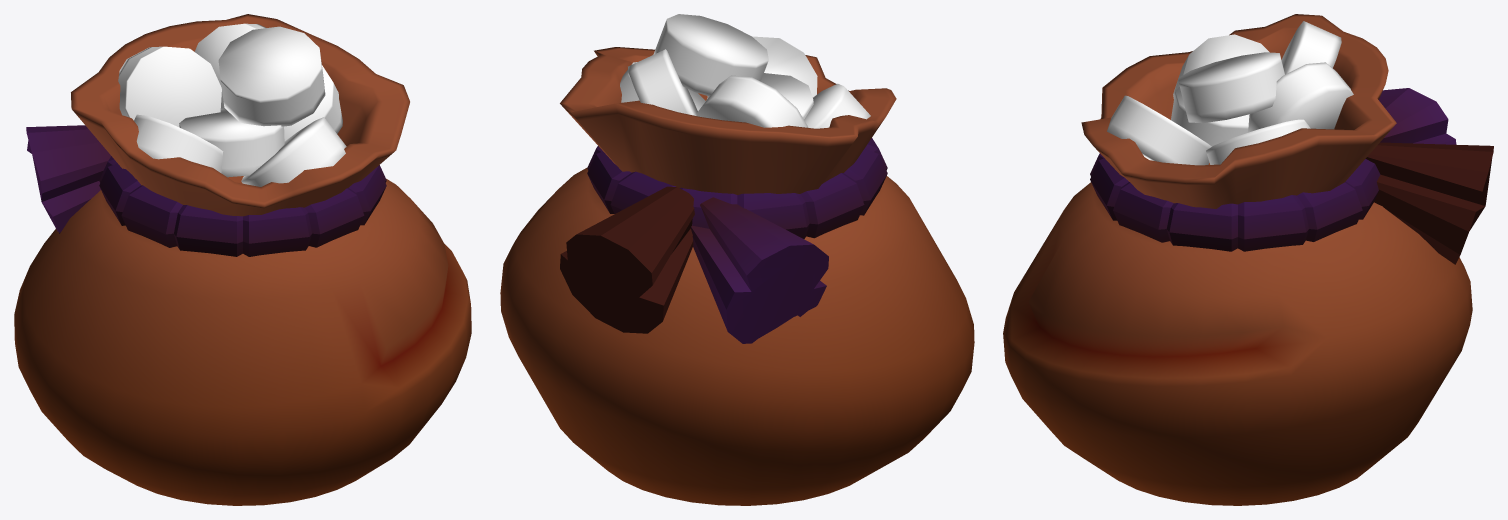
The model's file is МЕШОЧЕК ЗОЛОТА.fbx.
3 renders of one model, left to right at view 1: azimuth 30°, elevation 25°; view 2: azimuth 150°, elevation 25°; view 3: azimuth 270°, elevation 25°, orthographic. The views are drawn at different scales.
Visible parts, largest first — view 1: Cylinder, Cylinder.005; view 2: Cylinder, Cylinder.005; view 3: Cylinder, Cylinder.005.
Boxes of the visible parts, box(x1,y1,x2,y2) form: Cylinder: box(14, 14, 471, 505); Cylinder.005: box(118, 23, 346, 186); Cylinder: box(500, 47, 974, 505); Cylinder.005: box(620, 14, 870, 128); Cylinder: box(1003, 14, 1493, 505); Cylinder.005: box(1107, 21, 1353, 165).
Bounding box in the file's own units: 307 × 303 × 321.
